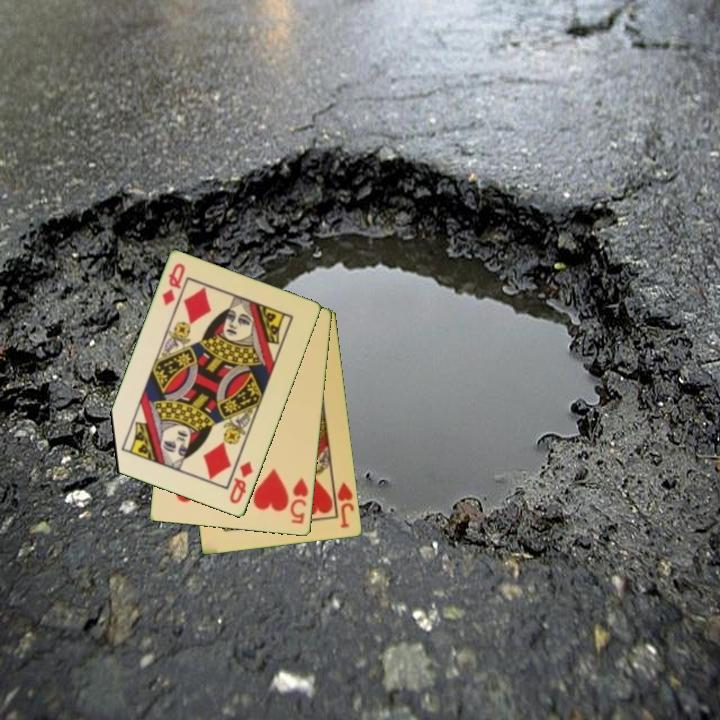5h: (287, 474, 311, 527)
Jh: (330, 476, 357, 531)
Qd: (226, 458, 256, 507), (159, 260, 188, 309)
